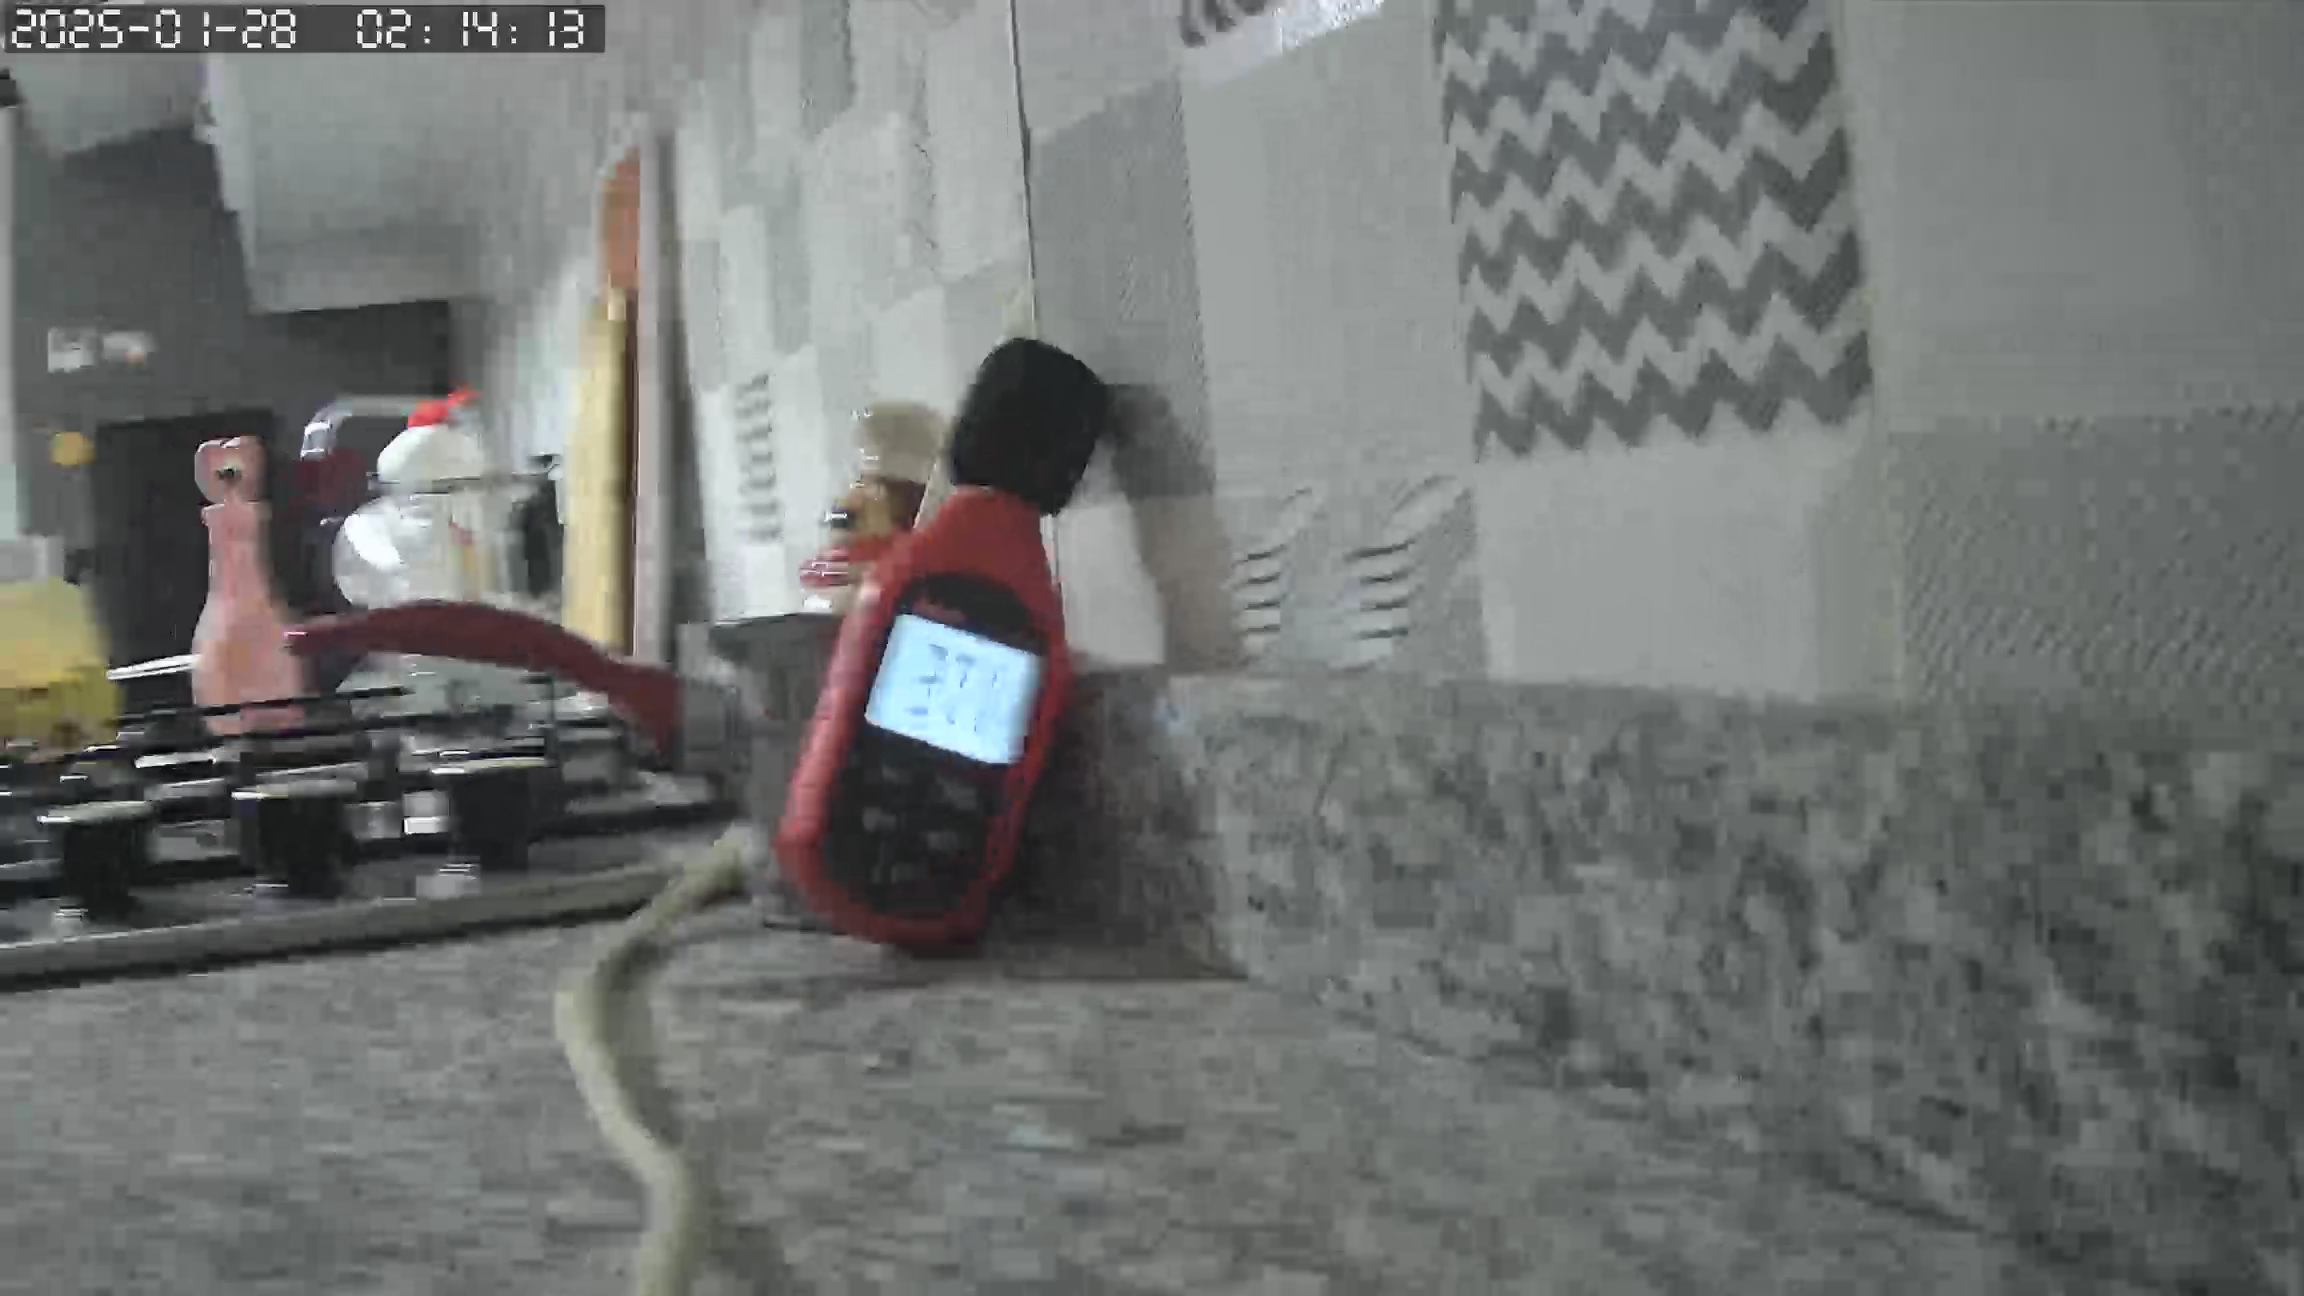screen: (869, 611, 1041, 763)
